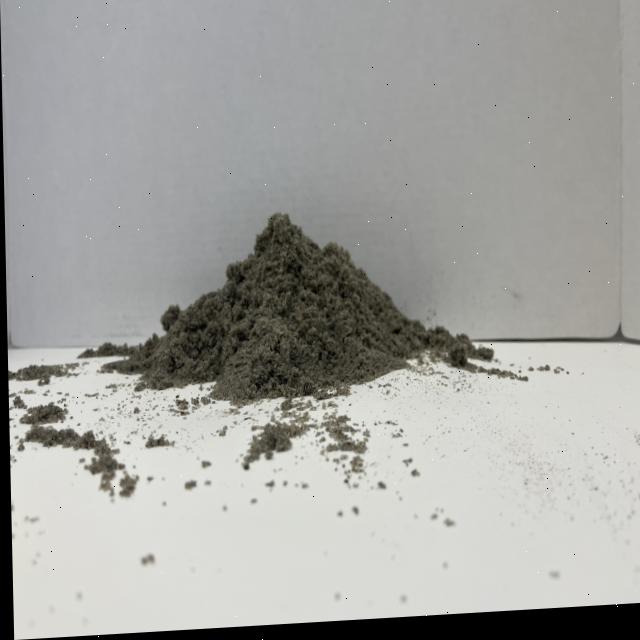sand: (128, 180, 434, 420)
